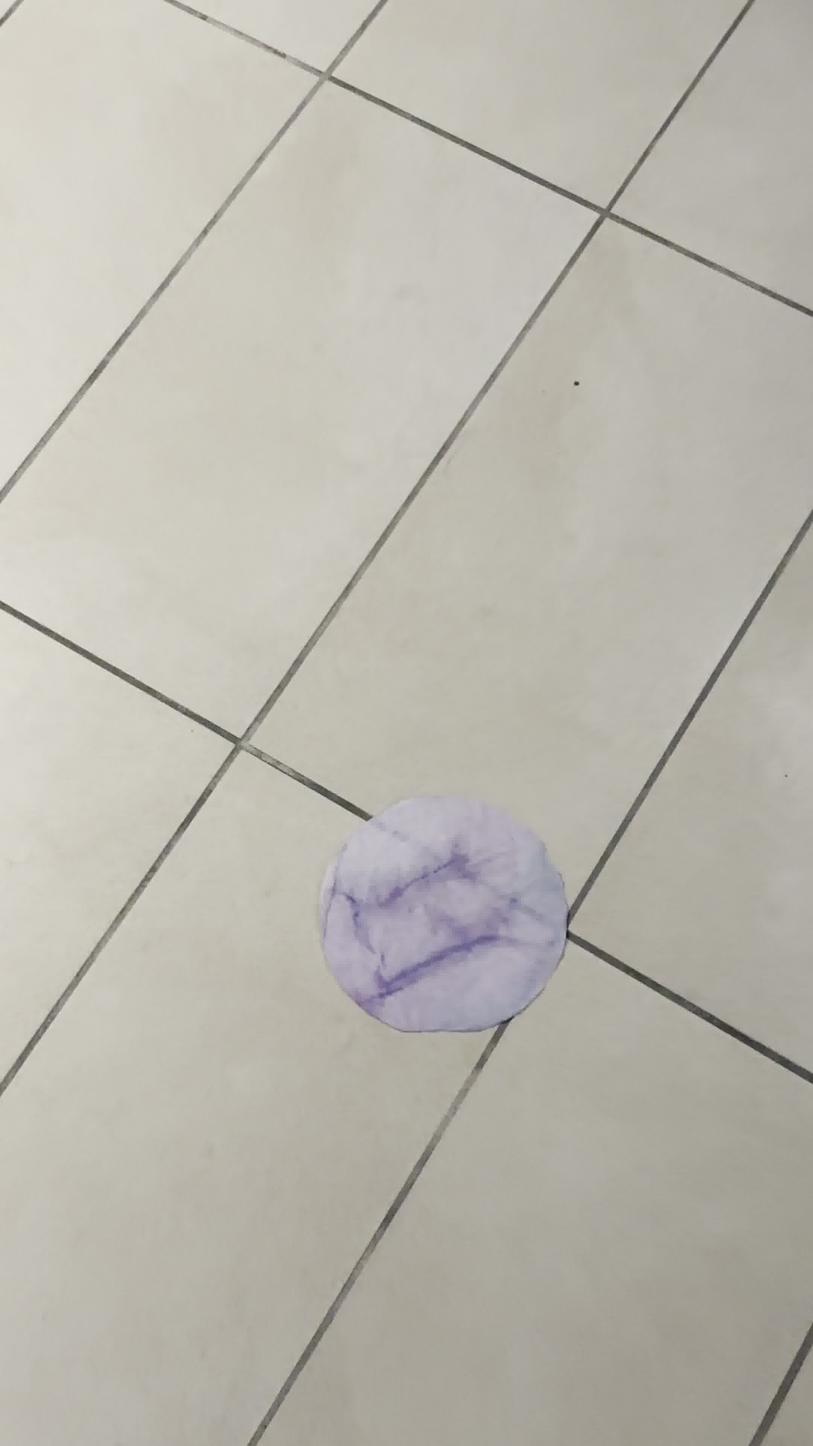Target: (314, 796, 570, 1035)
